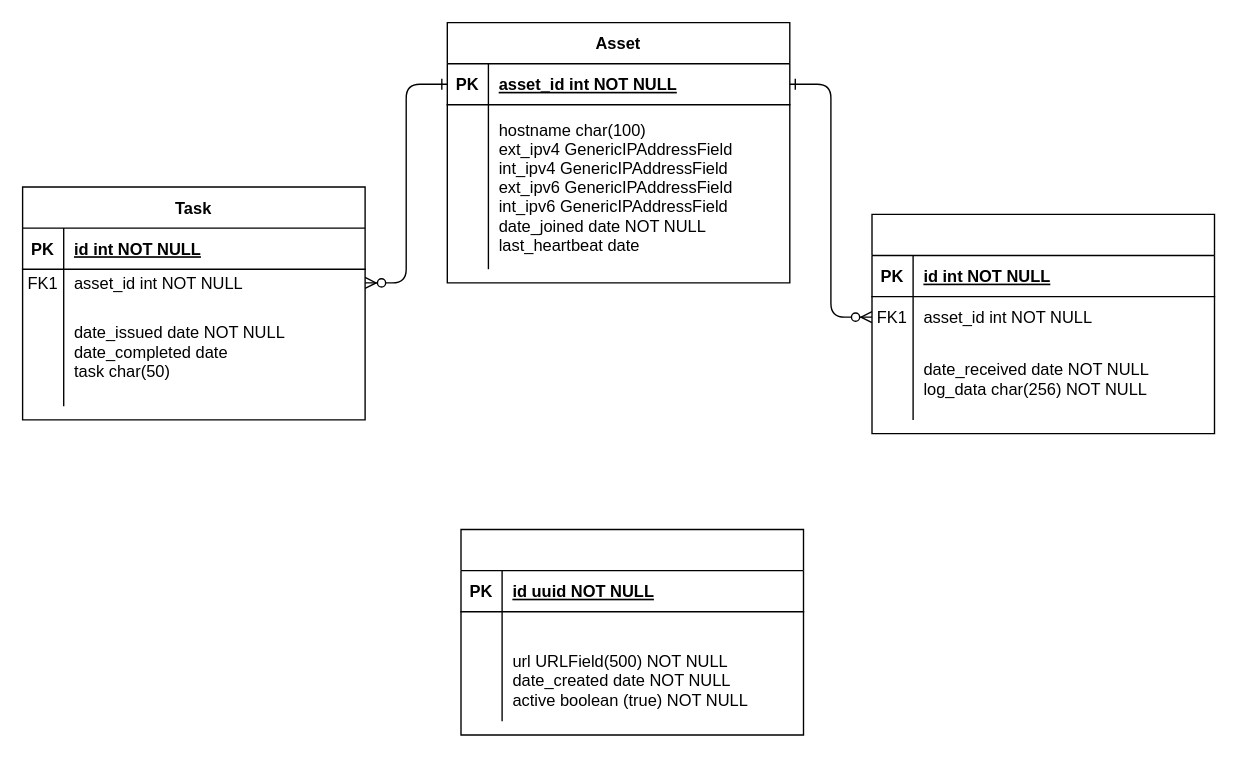
The diagram is 1237 pixels wide and 758 high, and some of its shapes have lost their labels. The shapes that lost their labels are listed below. From the top down, each one's box as (x1, y1, x2, y2) in pixels, then its label:
(871, 213, 1215, 434): Raw Log
(460, 528, 804, 735): Ingest
